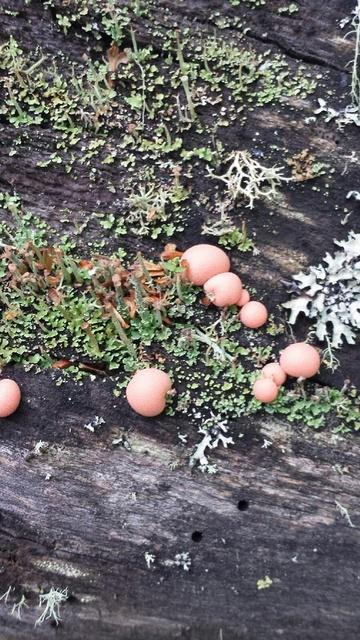Non-edible Mushroom: (124, 366, 172, 417), (178, 242, 230, 285), (278, 341, 320, 379), (202, 271, 242, 307), (238, 300, 268, 328), (0, 377, 21, 417), (251, 376, 278, 403), (260, 361, 285, 386)
